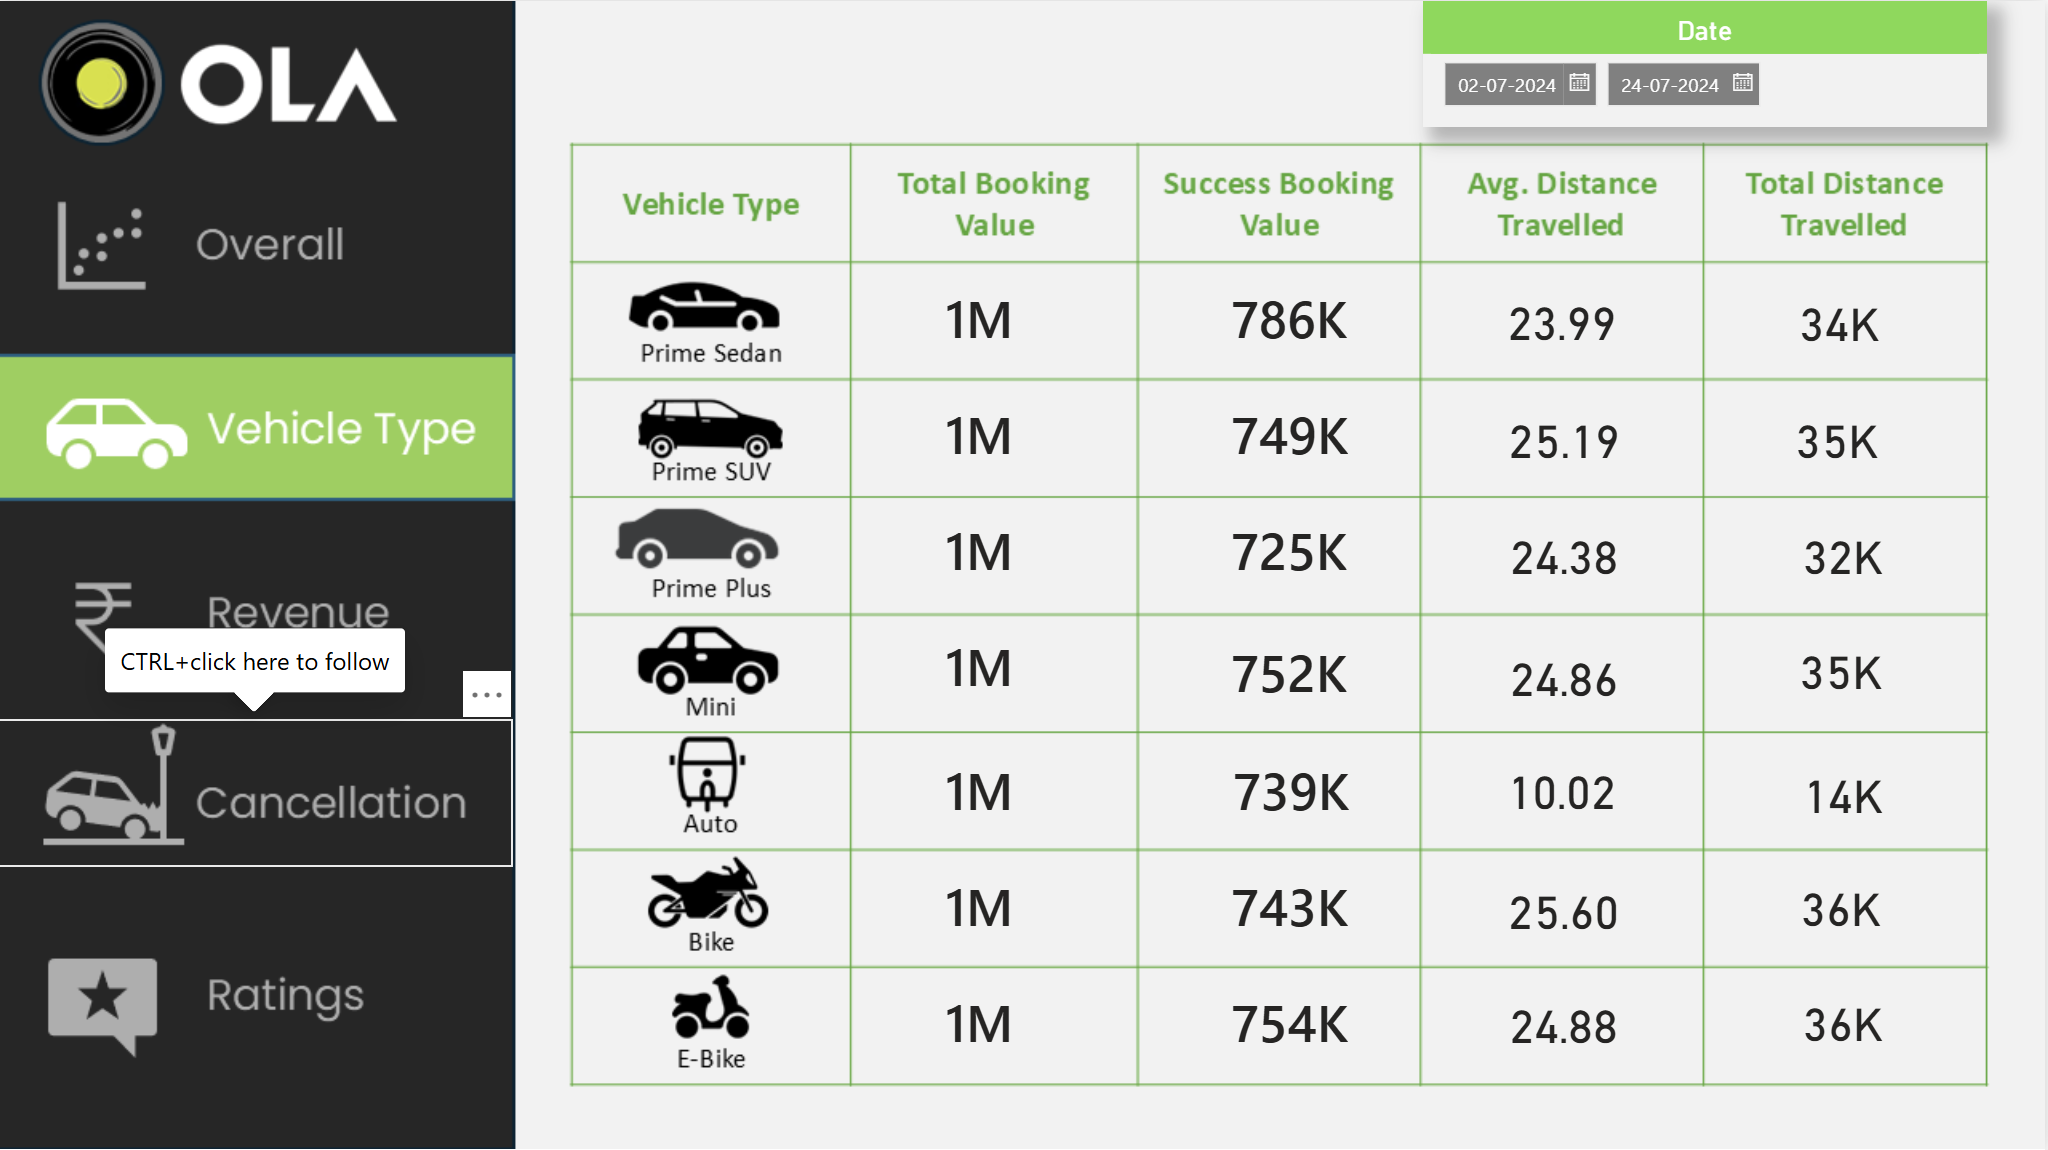

Layout of this report page (visuals, bound fields, positions):
{"tool":"powerbi","page":{"name":"vehicle type","canvas":[1280,720],"ordinal":1},"visuals":[{"type":"actionButton","box":[0,221.3,323,92.7],"z":0},{"type":"actionButton","box":[0,332,323,92.7],"z":1000},{"type":"actionButton","box":[0,448.6,323,92.7],"z":2000},{"type":"actionButton","box":[0,580.2,323,92.7],"z":3000},{"type":"actionButton","box":[0,104.7,323,83.7],"z":4000},{"type":"cardVisual","fields":{"Data":["Sum(July.Booking_Value)"]},"box":[533.6,163.6,179.1,72.7],"z":5000},{"type":"cardVisual","fields":{"Data":["Sum(July.Booking_Value)"]},"box":[533.6,236.4,179.1,72.7],"z":6000},{"type":"cardVisual","fields":{"Data":["Sum(July.Booking_Value)"]},"box":[533.6,309.1,179.1,72.7],"z":7000},{"type":"cardVisual","fields":{"Data":["Sum(July.Booking_Value)"]},"box":[533.6,381.8,179.1,72.7],"z":8000},{"type":"cardVisual","fields":{"Data":["Sum(July.Booking_Value)"]},"box":[533.6,458.2,179.1,72.7],"z":9000},{"type":"cardVisual","fields":{"Data":["Sum(July.Booking_Value)"]},"box":[533.6,530.9,179.1,72.7],"z":10000},{"type":"cardVisual","fields":{"Data":["Sum(July.Booking_Value)"]},"box":[533.6,603.6,179.1,72.7],"z":11000},{"type":"cardVisual","fields":{"Data":["Sum(July.Booking_Value)"]},"box":[712.7,163.6,179.1,72.7],"z":12000},{"type":"cardVisual","fields":{"Data":["Sum(July.Booking_Value)"]},"box":[712.7,236.4,179.1,72.7],"z":13000},{"type":"cardVisual","fields":{"Data":["Sum(July.Booking_Value)"]},"box":[712.7,309.1,179.1,72.7],"z":14000},{"type":"cardVisual","fields":{"Data":["Sum(July.Booking_Value)"]},"box":[712.7,385.5,179.1,72.7],"z":15000},{"type":"cardVisual","fields":{"Data":["Sum(July.Booking_Value)"]},"box":[713.6,458.2,179.1,72.7],"z":16000},{"type":"cardVisual","fields":{"Data":["Sum(July.Booking_Value)"]},"box":[712.7,530.9,179.1,72.7],"z":17000},{"type":"cardVisual","fields":{"Data":["Sum(July.Booking_Value)"]},"box":[712.7,603.6,179.1,72.7],"z":18000},{"type":"card","fields":{"Values":["Avg(July.Ride_Distance)"]},"box":[891.8,163.6,173.6,72.7],"z":19000},{"type":"card","fields":{"Values":["Avg(July.Ride_Distance)"]},"box":[891.9,236.9,173.8,72.5],"z":20000},{"type":"card","fields":{"Values":["Avg(July.Ride_Distance)"]},"box":[891.9,309.4,173.8,72.5],"z":21000},{"type":"card","fields":{"Values":["Avg(July.Ride_Distance)"]},"box":[891.9,385.6,173.8,72.5],"z":22000},{"type":"card","fields":{"Values":["Avg(July.Ride_Distance)"]},"box":[1747.5,566.9,173.8,72.5],"z":23000},{"type":"card","fields":{"Values":["Avg(July.Ride_Distance)"]},"box":[891.1,456.7,173.3,73.3],"z":24000},{"type":"card","fields":{"Values":["Avg(July.Ride_Distance)"]},"box":[892.2,531.1,173.3,73.3],"z":25000},{"type":"card","fields":{"Values":["Avg(July.Ride_Distance)"]},"box":[892.2,602.2,173.3,73.3],"z":26000},{"type":"card","fields":{"Values":["Sum(July.Ride_Distance)"]},"box":[1065.6,163.3,173.3,73.3],"z":27000},{"type":"card","fields":{"Values":["Sum(July.Ride_Distance)"]},"box":[1063.6,237.7,172.7,72.7],"z":28000},{"type":"card","fields":{"Values":["Sum(July.Ride_Distance)"]},"box":[1067.5,310,172.5,72.5],"z":29000},{"type":"card","fields":{"Values":["Sum(July.Ride_Distance)"]},"box":[1066.2,381.8,172.7,74],"z":30000},{"type":"card","fields":{"Values":["Sum(July.Ride_Distance)"]},"box":[1067.5,458.4,172.7,74],"z":31000},{"type":"card","fields":{"Values":["Sum(July.Ride_Distance)"]},"box":[1066.2,529.9,172.7,72.7],"z":32000},{"type":"card","fields":{"Values":["Sum(July.Ride_Distance)"]},"box":[1067.5,601.3,172.7,74],"z":33000},{"type":"slicer","title":"Date","fields":{"Values":["July.Date"]},"box":[890.8,0,352.3,78.5],"z":34000}]}

Visuals, with their boxes on the page's 1280x720 design canvas (x1, y1, x2, y2). These are canvas units, not pixel positions in the 2048x1150 screenshot, which may show the page scaled, cropped or inside an application window:
actionButton: region(0, 221, 323, 314)
actionButton: region(0, 332, 323, 425)
actionButton: region(0, 449, 323, 541)
actionButton: region(0, 580, 323, 673)
actionButton: region(0, 105, 323, 188)
cardVisual - Sum(July.Booking_Value): region(534, 164, 713, 236)
cardVisual - Sum(July.Booking_Value): region(534, 236, 713, 309)
cardVisual - Sum(July.Booking_Value): region(534, 309, 713, 382)
cardVisual - Sum(July.Booking_Value): region(534, 382, 713, 454)
cardVisual - Sum(July.Booking_Value): region(534, 458, 713, 531)
cardVisual - Sum(July.Booking_Value): region(534, 531, 713, 604)
cardVisual - Sum(July.Booking_Value): region(534, 604, 713, 676)
cardVisual - Sum(July.Booking_Value): region(713, 164, 892, 236)
cardVisual - Sum(July.Booking_Value): region(713, 236, 892, 309)
cardVisual - Sum(July.Booking_Value): region(713, 309, 892, 382)
cardVisual - Sum(July.Booking_Value): region(713, 386, 892, 458)
cardVisual - Sum(July.Booking_Value): region(714, 458, 893, 531)
cardVisual - Sum(July.Booking_Value): region(713, 531, 892, 604)
cardVisual - Sum(July.Booking_Value): region(713, 604, 892, 676)
card - Avg(July.Ride_Distance): region(892, 164, 1065, 236)
card - Avg(July.Ride_Distance): region(892, 237, 1066, 309)
card - Avg(July.Ride_Distance): region(892, 309, 1066, 382)
card - Avg(July.Ride_Distance): region(892, 386, 1066, 458)
card - Avg(July.Ride_Distance): region(1748, 567, 1921, 639)
card - Avg(July.Ride_Distance): region(891, 457, 1064, 530)
card - Avg(July.Ride_Distance): region(892, 531, 1066, 604)
card - Avg(July.Ride_Distance): region(892, 602, 1066, 676)
card - Sum(July.Ride_Distance): region(1066, 163, 1239, 237)
card - Sum(July.Ride_Distance): region(1064, 238, 1236, 310)
card - Sum(July.Ride_Distance): region(1068, 310, 1240, 382)
card - Sum(July.Ride_Distance): region(1066, 382, 1239, 456)
card - Sum(July.Ride_Distance): region(1068, 458, 1240, 532)
card - Sum(July.Ride_Distance): region(1066, 530, 1239, 603)
card - Sum(July.Ride_Distance): region(1068, 601, 1240, 675)
"Date" slicer: region(891, 0, 1243, 78)
